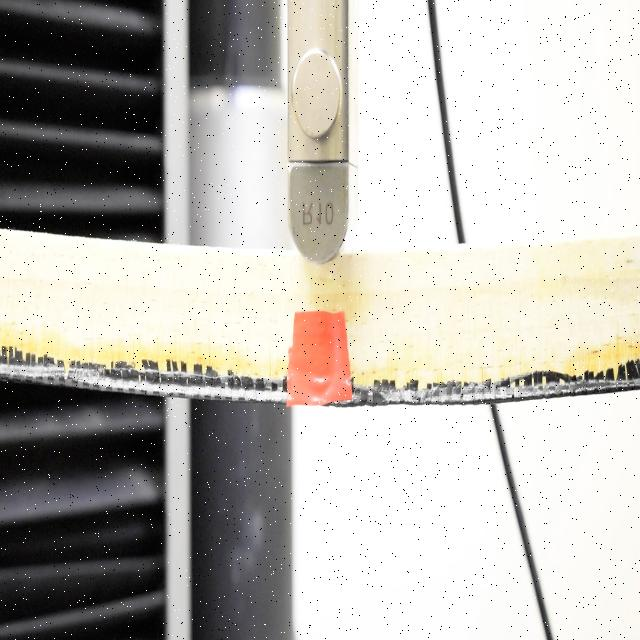wood: (0, 235, 639, 406)
